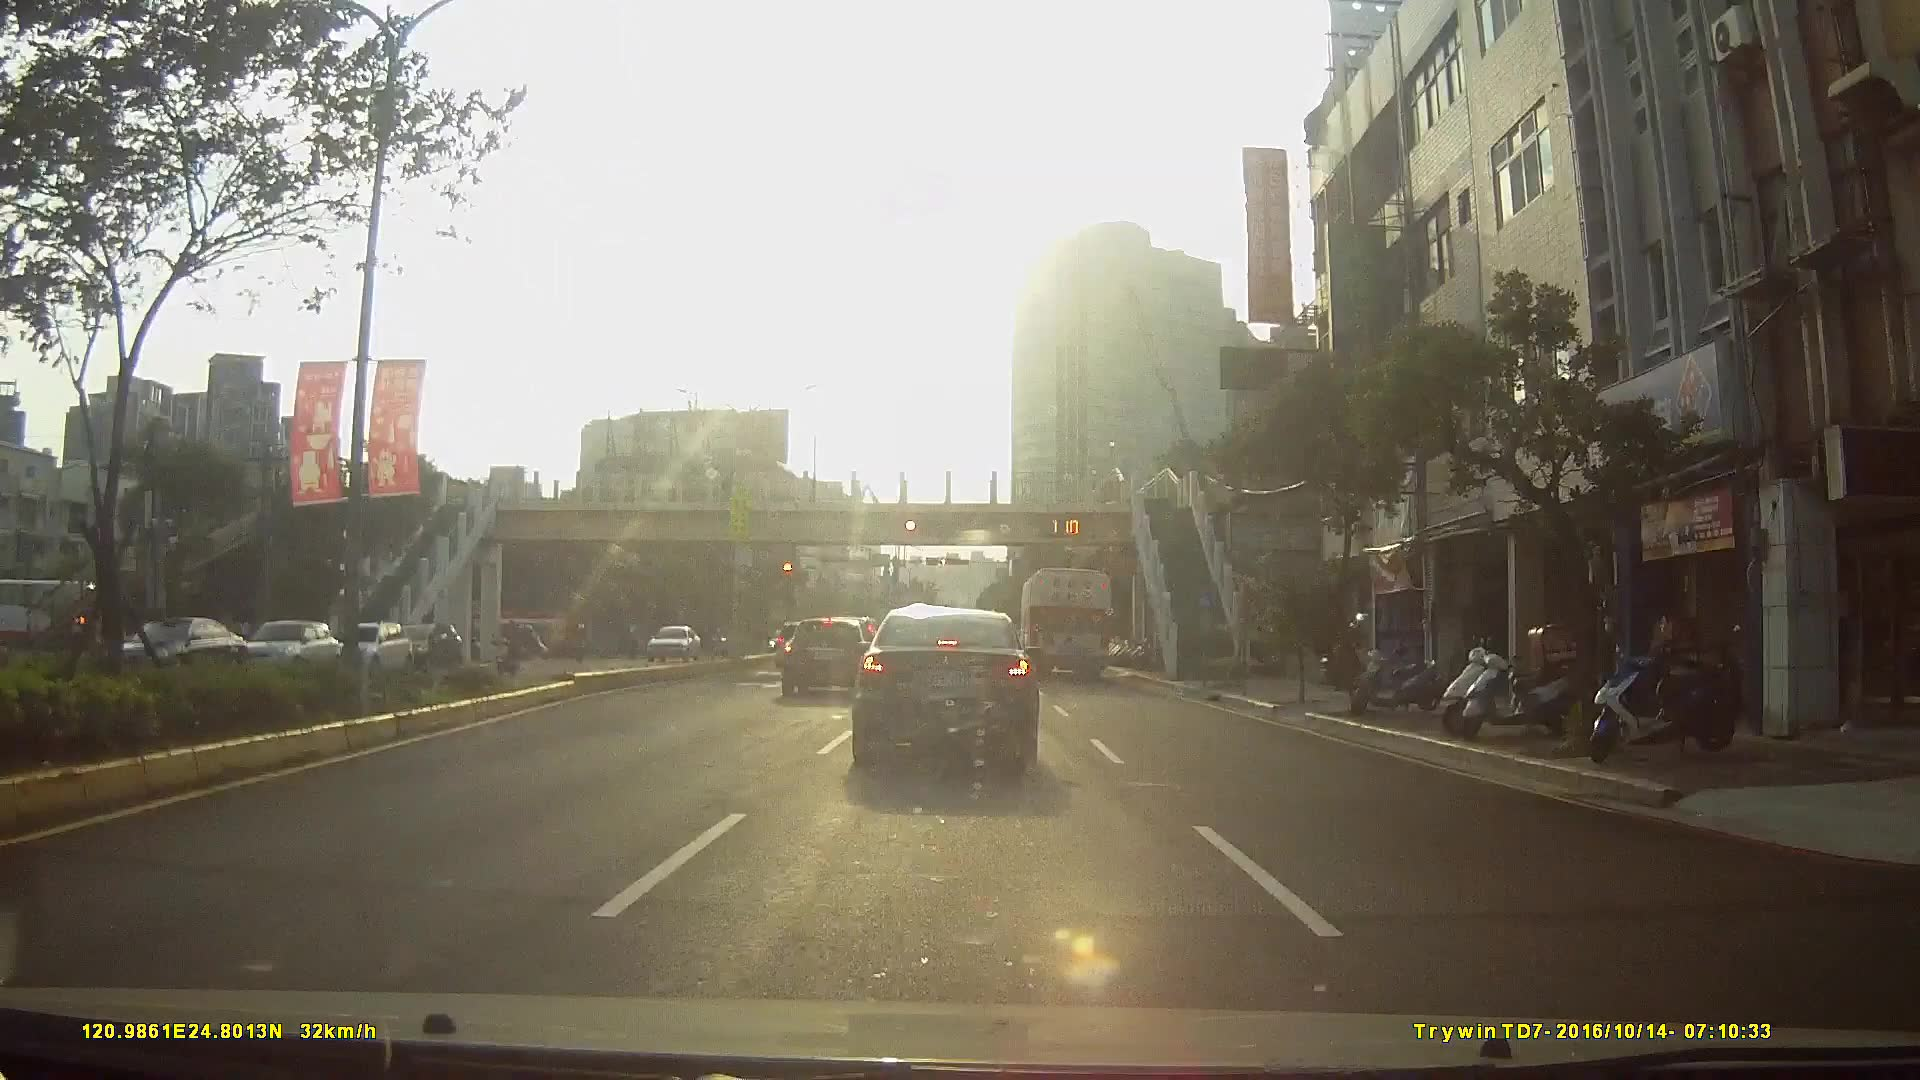rider: (494, 619, 525, 679)
vehicle: (849, 604, 1042, 765), (1018, 568, 1116, 684), (101, 617, 242, 689), (778, 615, 875, 700), (234, 618, 337, 678), (323, 622, 412, 675), (390, 622, 461, 672), (640, 624, 698, 665)
